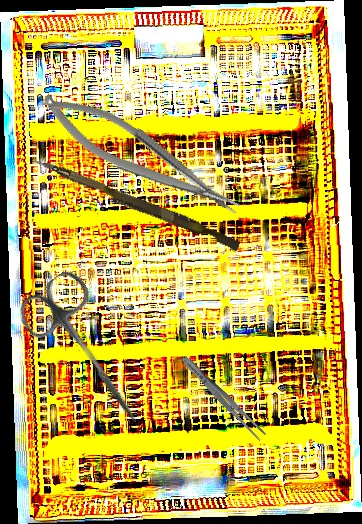Dressing Forceps: (178, 352, 268, 443)
Iris Scissors: (12, 265, 168, 442)
Needle Holder: (33, 77, 247, 235)
Pusher: (30, 156, 243, 252)
